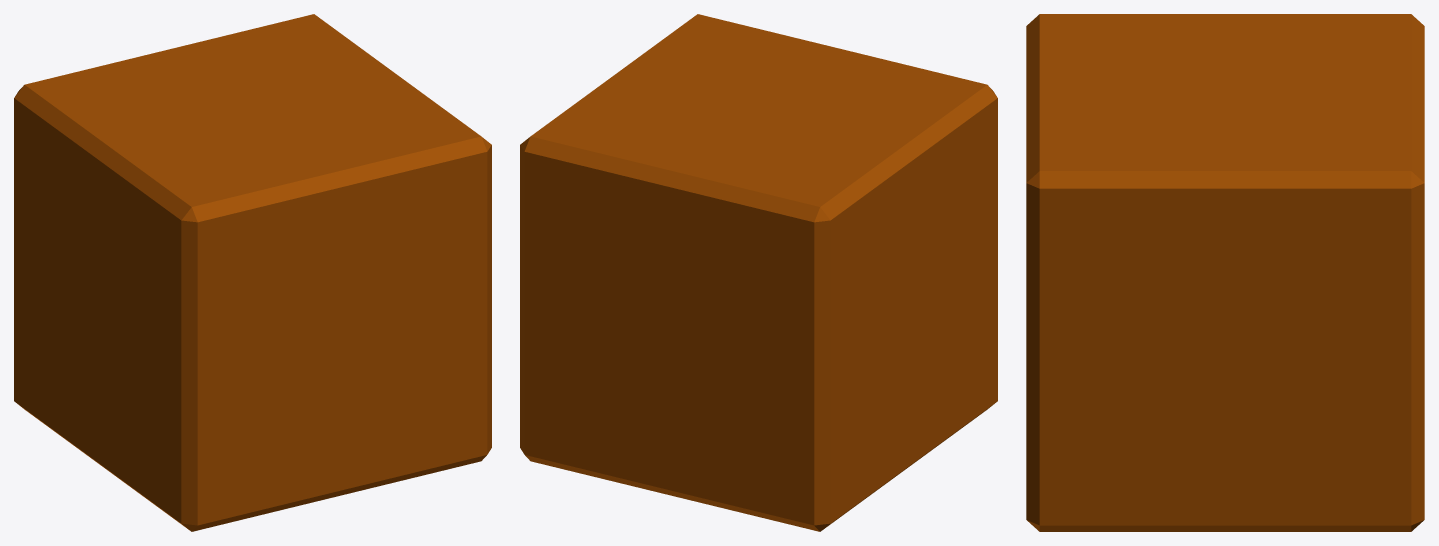
File: soil.fbx
3 renders of one model, left to right at view 1: azimuth 30°, elevation 25°; view 2: azimuth 150°, elevation 25°; view 3: azimuth 270°, elevation 25°, orthographic. The views are drawn at different scales.
Visible parts, largest first — view 1: pCube3; view 2: pCube3; view 3: pCube3.
Part boxes in pixels (<box>): pCube3: <box>14,14,491,531</box>; pCube3: <box>520,14,997,531</box>; pCube3: <box>1026,14,1424,531</box>.
Bounding box in the file's own units: 1 × 1 × 1.
